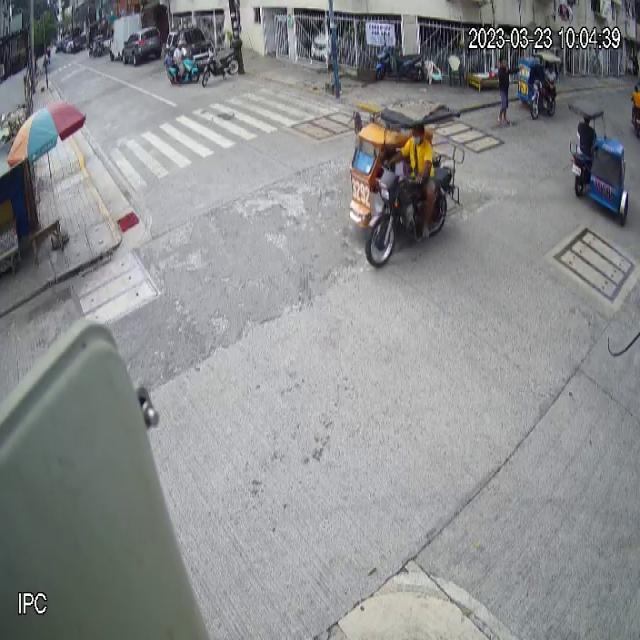Tricycle: (349, 99, 458, 269), (568, 99, 629, 227), (518, 51, 560, 120)
